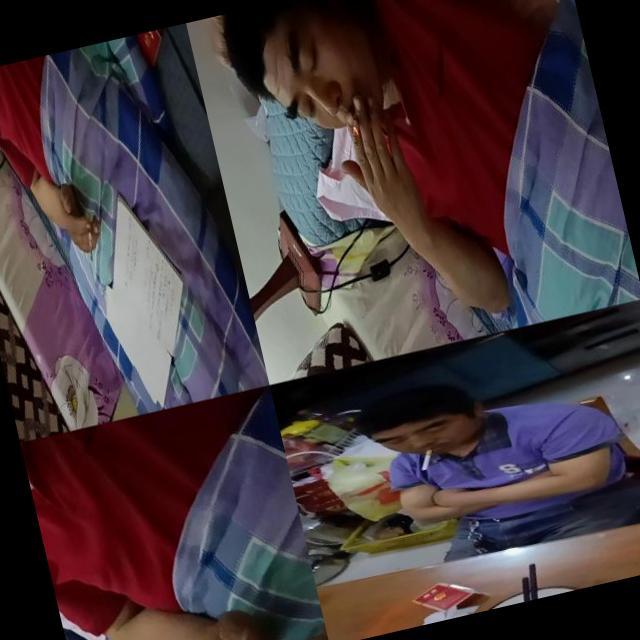smoke: (80, 210, 100, 261), (346, 110, 364, 146), (416, 448, 436, 470), (317, 625, 329, 640)
